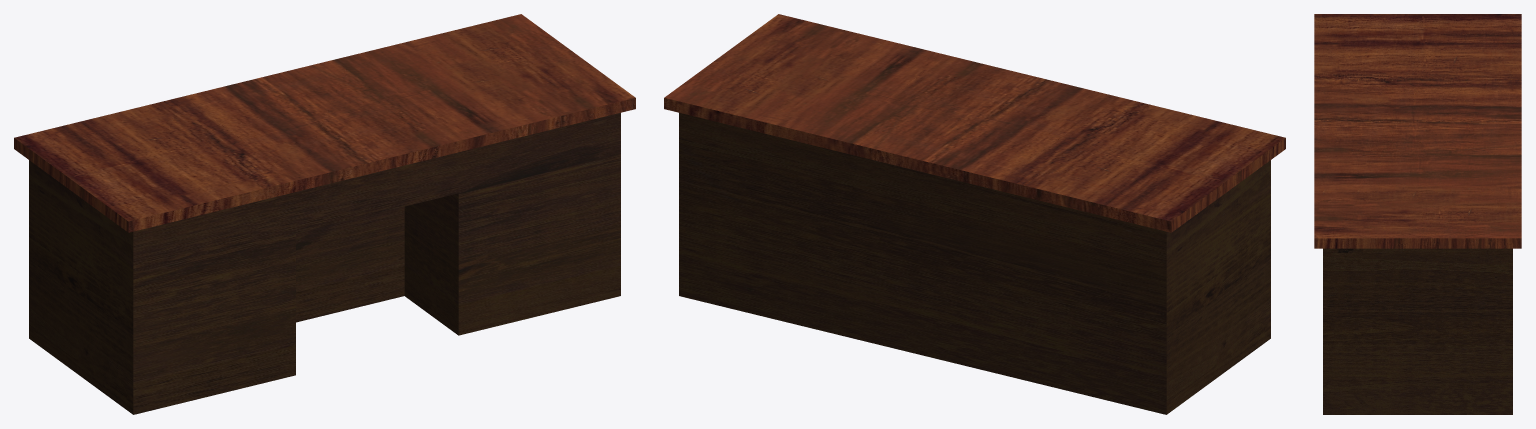
File: Officetable.fbx
The picture shows the model from 3 angles, left to right: view 1: azimuth 30°, elevation 25°; view 2: azimuth 150°, elevation 25°; view 3: azimuth 270°, elevation 25°; orthographic projection. The views are drawn at different scales.
Visible parts, largest first — view 1: Cube; view 2: Cube; view 3: Cube.
Part boxes in pixels (<box>): Cube: <box>14,14,635,414</box>; Cube: <box>664,14,1285,414</box>; Cube: <box>1314,14,1521,414</box>.
Size of the model in its own units: 198 by 74.45 by 77.44.
